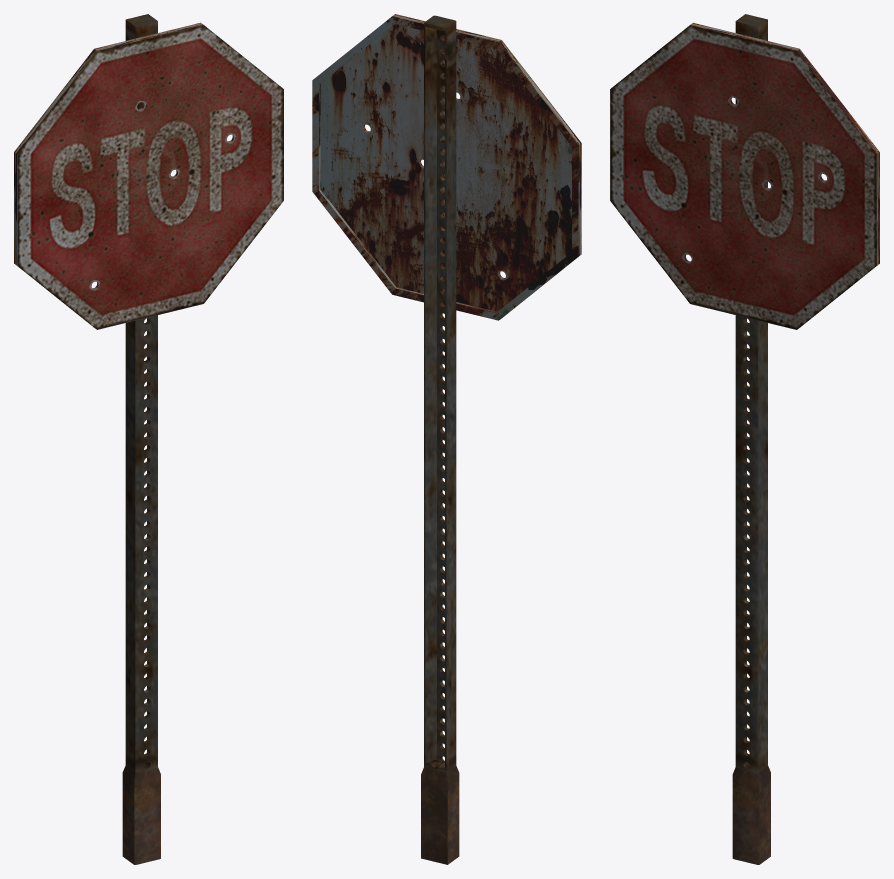
File: stop-transformed.glb
The picture shows the model from 3 angles, left to right: view 1: azimuth 30°, elevation 25°; view 2: azimuth 150°, elevation 25°; view 3: azimuth 330°, elevation 25°; orthographic projection.
Visible parts, largest first — view 1: Stop Sign_01 - Default_0, Stop Sign_08 - Default_0, Stop Sign_07 - Default_0, Stop Sign_02 - Default_0; view 2: Stop Sign_02 - Default_0, Stop Sign_08 - Default_0, Stop Sign_07 - Default_0; view 3: Stop Sign_01 - Default_0, Stop Sign_08 - Default_0, Stop Sign_07 - Default_0, Stop Sign_02 - Default_0.
Part boxes in pixels (x1,y1,x2,y2): Stop Sign_01 - Default_0: [17, 25, 283, 329]; Stop Sign_08 - Default_0: [125, 14, 157, 772]; Stop Sign_07 - Default_0: [122, 765, 160, 864]; Stop Sign_02 - Default_0: [14, 22, 203, 327]; Stop Sign_02 - Default_0: [312, 14, 581, 320]; Stop Sign_08 - Default_0: [424, 15, 456, 772]; Stop Sign_07 - Default_0: [421, 766, 459, 864]; Stop Sign_01 - Default_0: [610, 25, 876, 329]; Stop Sign_08 - Default_0: [735, 14, 767, 772]; Stop Sign_07 - Default_0: [732, 765, 770, 864]; Stop Sign_02 - Default_0: [690, 22, 879, 327].
Bounding box in the file's own units: 100 × 300 × 9.35.
5 materials, 5 textured.
